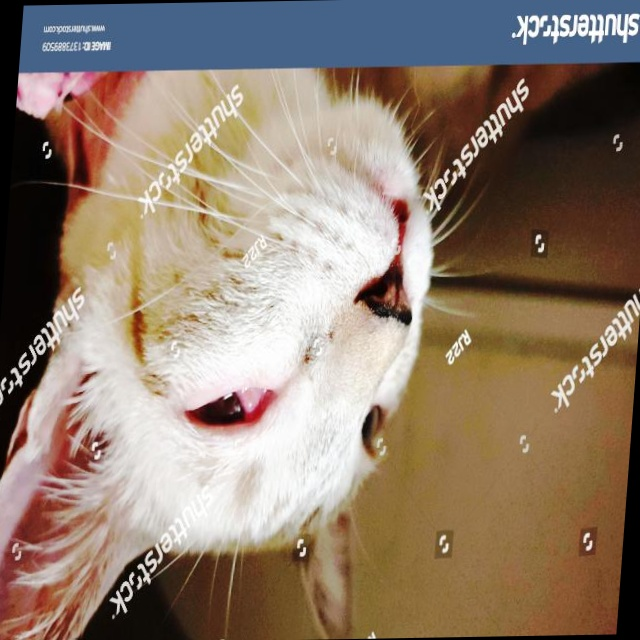eye_infection: (182, 382, 274, 438)
